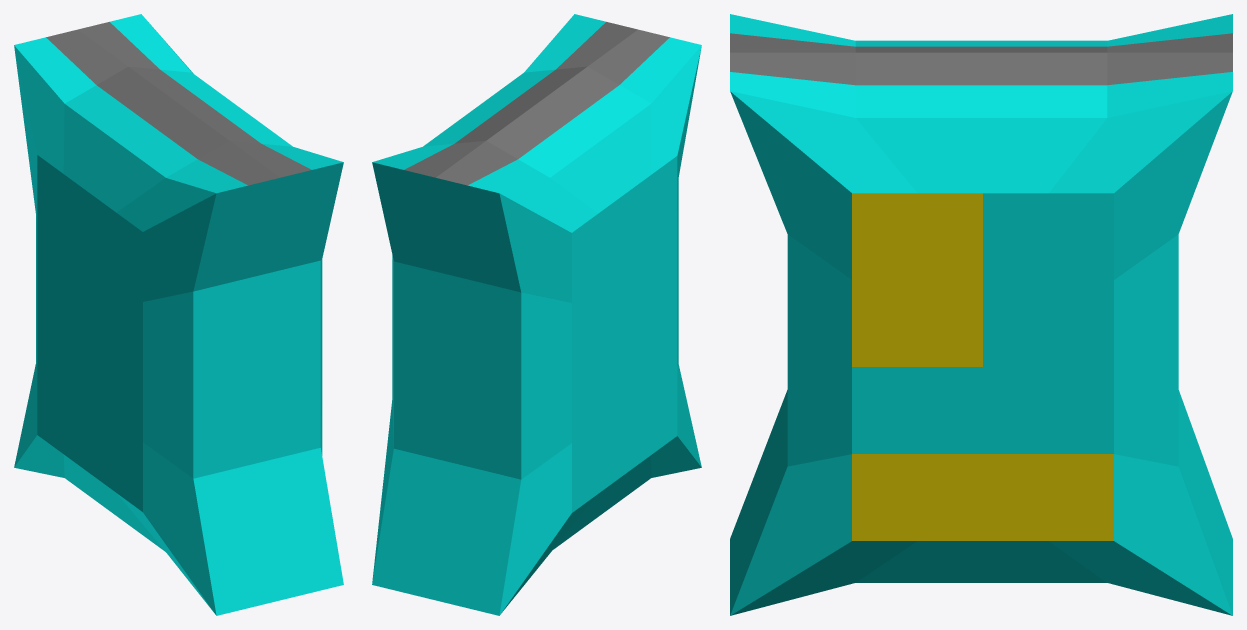
The model's file is crips2.fbx.
3 renders of one model, left to right at view 1: azimuth 30°, elevation 25°; view 2: azimuth 150°, elevation 25°; view 3: azimuth 270°, elevation 25°, orthographic. The views are drawn at different scales.
Visible parts, largest first — view 1: Cube; view 2: Cube; view 3: Cube.
Part boxes in pixels (left/top/right/bottom): Cube: left=14, top=14, right=343, bottom=615; Cube: left=372, top=14, right=701, bottom=615; Cube: left=730, top=14, right=1232, bottom=615.
Bounding box in the file's own units: 132 × 296 × 257.
